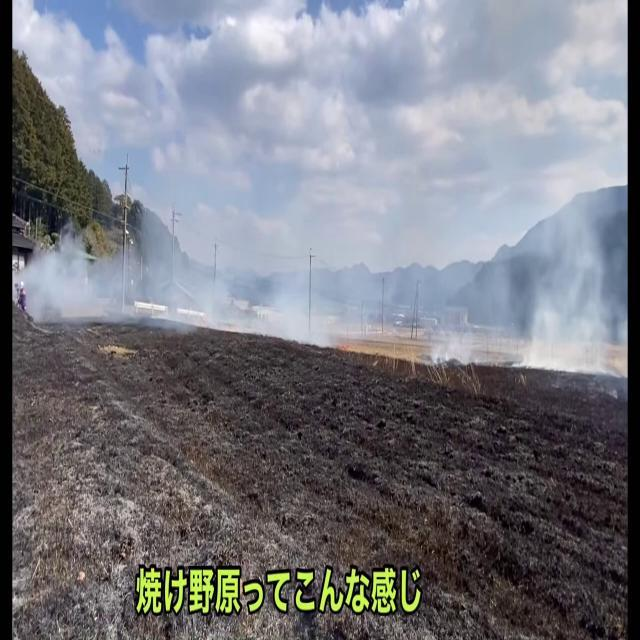Smoke: (445, 185, 628, 372), (19, 210, 260, 330)
